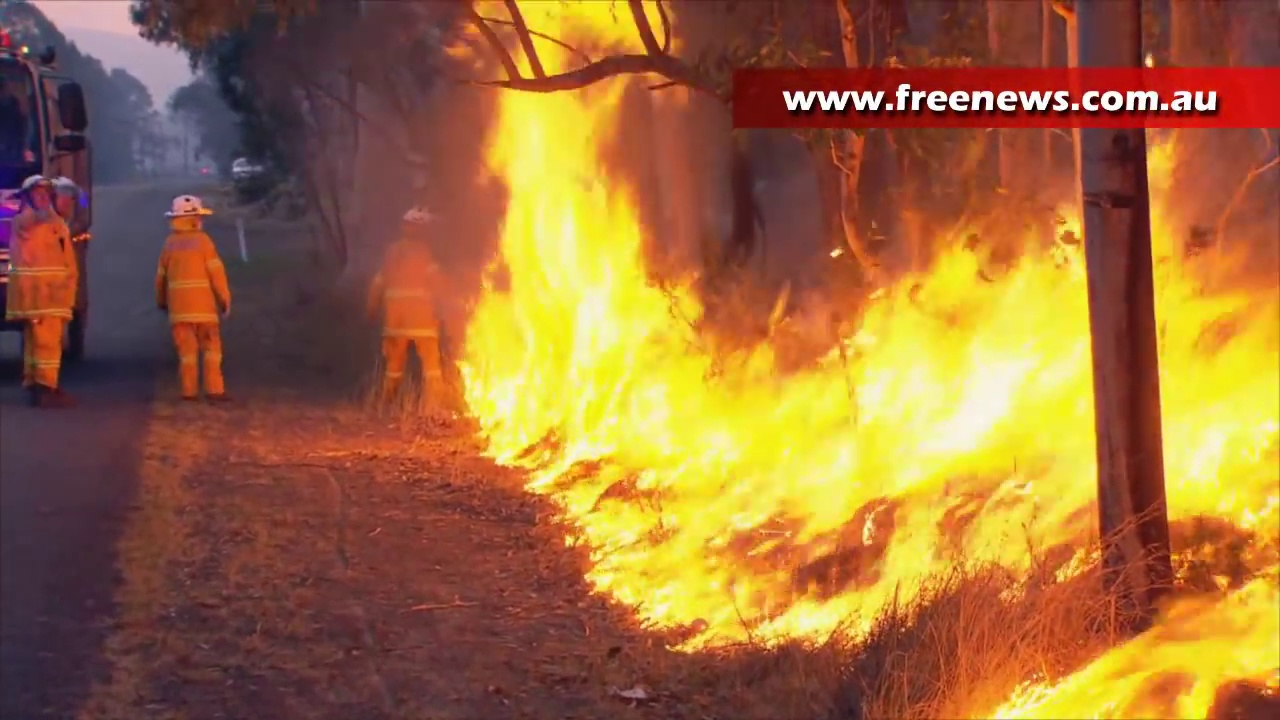fire: (563, 216, 1092, 655), (460, 1, 685, 492), (986, 573, 1280, 717), (1153, 233, 1280, 519)
